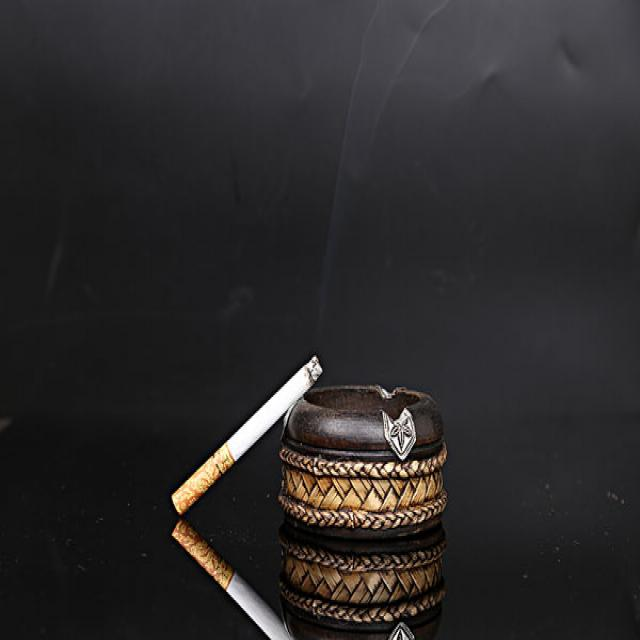smoking: (172, 356, 322, 511), (164, 521, 315, 640)
